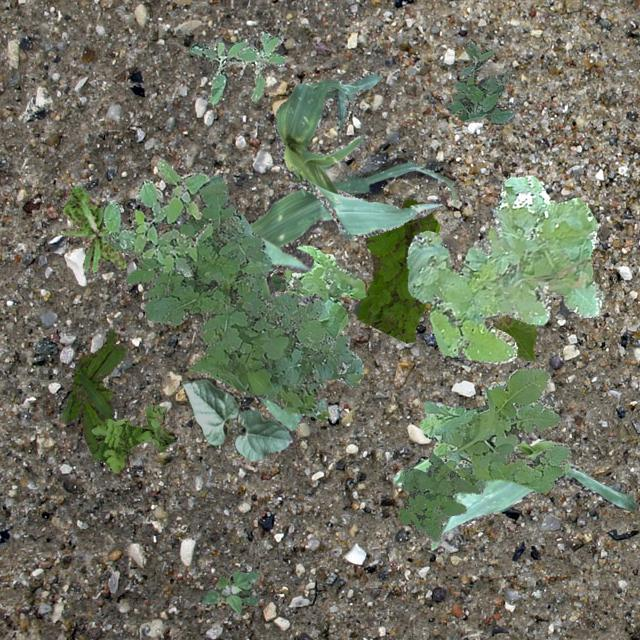crop: (246, 156, 456, 430), (273, 72, 442, 236), (392, 434, 634, 548), (182, 376, 294, 459), (492, 312, 536, 360)
weed: (100, 173, 362, 420), (406, 174, 602, 363), (418, 368, 570, 492), (102, 157, 212, 276), (352, 198, 438, 342), (268, 244, 364, 344), (62, 328, 125, 452), (396, 452, 484, 540), (188, 30, 284, 104), (90, 402, 176, 472), (444, 38, 512, 124), (60, 185, 126, 272), (200, 570, 258, 612), (268, 270, 284, 290)
